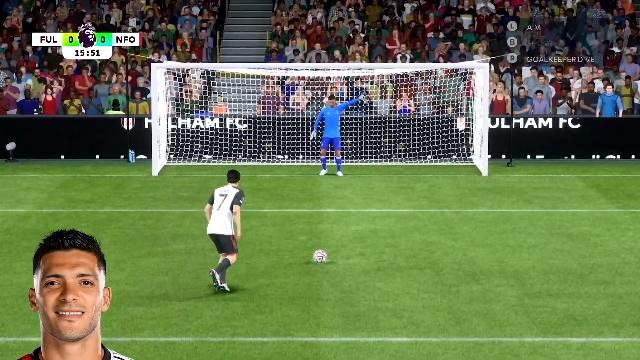bottom-left: (157, 121, 260, 180)
bottom-right: (373, 120, 483, 178)
center-down: (262, 120, 372, 178)
center-up: (262, 68, 372, 120)
football: (313, 251, 327, 262)
goalkeeper: (308, 92, 364, 178)
player: (202, 168, 260, 288)
top-left: (157, 68, 261, 120)
top-right: (374, 68, 484, 119)
